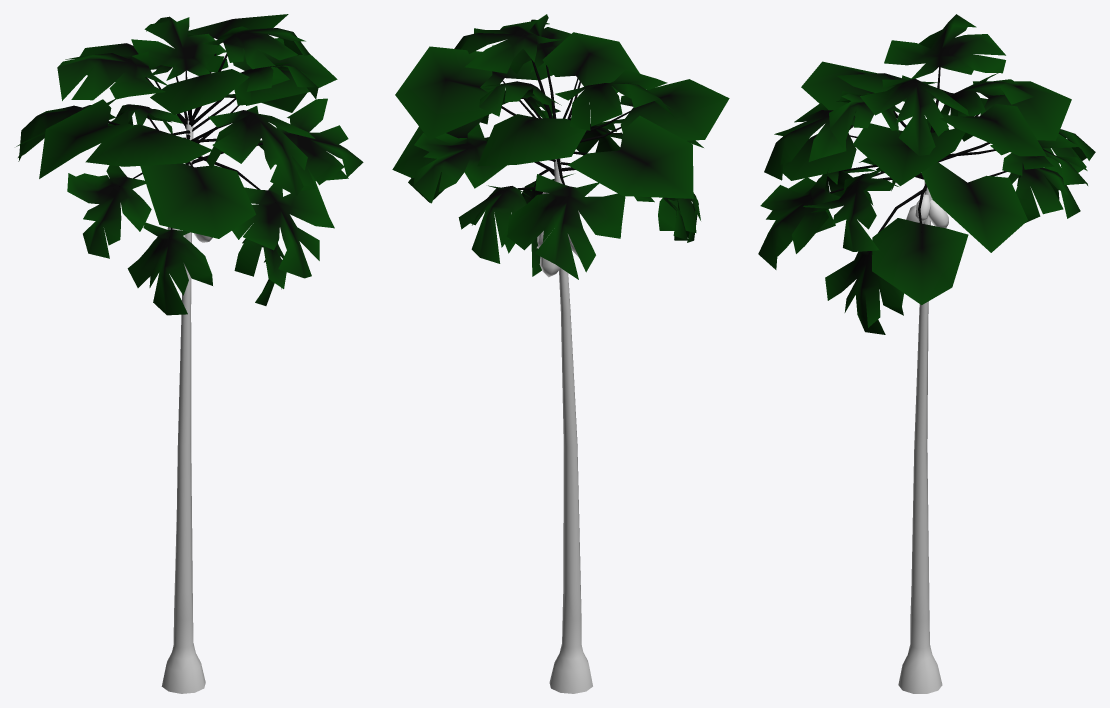
The model's file is PapayaTree001_HDRP_afsTREE_xlprl05_xef80_xlod00.fbx.
3 renders of one model, left to right at view 1: azimuth 30°, elevation 25°; view 2: azimuth 150°, elevation 25°; view 3: azimuth 270°, elevation 25°, orthographic.
Visible parts, largest first — view 1: trunk_xw05_xt05_xlp00, stem.005_xt15_xlp05_xp05, stem.012_xt15_xlp05_xp03, stem.022_xt15_xlp05_xp05, stem.010_xt15_xlp05_xp07, stem.013_xt10_xlp03_xp06, stem.029_xt15_xlp05, stem.024_xt15_xlp05_xp07, stem.032_xt15_xlp05_xp08, stem.023_xt15_xlp05, stem.011_xt15_xlp05_xp09, stem.033_xt15_xlp05_xp04 (+9 smaller); view 2: trunk_xw05_xt05_xlp00, stem.002_xt15_xlp05_xp01, stem.011_xt15_xlp05_xp09, stem.027_xt15_xlp05_xp10, stem.026_xt15_xlp05_xp02, stem.023_xt15_xlp05, stem.015_xt15_xlp05, stem.031_xt15_xlp05_xp01, stem.029_xt15_xlp05, stem.033_xt15_xlp05_xp04, stem.004_xt15_xlp05, stem.030_xt15_xlp05 (+7 smaller); view 3: trunk_xw05_xt05_xlp00, stem.003_xt15_xlp05_xp10, stem.021_xt15_xlp05_xp08, stem.029_xt15_xlp05, stem.012_xt15_xlp05_xp03, stem.033_xt15_xlp05_xp04, stem.014_xt10_xlp05.001, stem.025_xt15_xlp05_xp10, stem.027_xt15_xlp05_xp10, stem.024_xt15_xlp05_xp07, stem.022_xt15_xlp05_xp05, stem.026_xt15_xlp05_xp02 (+9 smaller).
Part boxes in pixels (left/top/right/bottom): trunk_xw05_xt05_xlp00: left=161, top=120, right=205, bottom=693; stem.005_xt15_xlp05_xp05: left=140, top=134, right=255, bottom=238; stem.012_xt15_xlp05_xp03: left=197, top=156, right=334, bottom=278; stem.022_xt15_xlp05_xp05: left=191, top=106, right=314, bottom=195; stem.010_xt15_xlp05_xp07: left=67, top=165, right=151, bottom=258; stem.013_xt10_xlp03_xp06: left=127, top=162, right=212, bottom=315; stem.029_xt15_xlp05: left=57, top=51, right=187, bottom=124; stem.024_xt15_xlp05_xp07: left=194, top=98, right=363, bottom=190; stem.032_xt15_xlp05_xp08: left=131, top=16, right=226, bottom=120; stem.023_xt15_xlp05: left=85, top=124, right=211, bottom=166; stem.011_xt15_xlp05_xp09: left=39, top=99, right=185, bottom=178; stem.033_xt15_xlp05_xp04: left=191, top=26, right=309, bottom=121; trunk_xw05_xt05_xlp00: left=549, top=158, right=592, bottom=693; stem.002_xt15_xlp05_xp01: left=506, top=158, right=625, bottom=279; stem.011_xt15_xlp05_xp09: left=568, top=115, right=693, bottom=198; stem.027_xt15_xlp05_xp10: left=395, top=46, right=515, bottom=139; stem.026_xt15_xlp05_xp02: left=477, top=114, right=586, bottom=166; stem.023_xt15_xlp05: left=585, top=79, right=729, bottom=140; stem.015_xt15_xlp05: left=413, top=123, right=506, bottom=203; stem.031_xt15_xlp05_xp01: left=542, top=32, right=639, bottom=118; stem.029_xt15_xlp05: left=555, top=69, right=674, bottom=130; stem.033_xt15_xlp05_xp04: left=454, top=20, right=562, bottom=118; stem.004_xt15_xlp05: left=458, top=185, right=535, bottom=263; stem.030_xt15_xlp05: left=492, top=14, right=570, bottom=118; trunk_xw05_xt05_xlp00: left=898, top=181, right=942, bottom=693; stem.003_xt15_xlp05_xp10: left=872, top=184, right=968, bottom=304; stem.021_xt15_xlp05_xp08: left=921, top=162, right=1027, bottom=252; stem.029_xt15_xlp05: left=884, top=14, right=1005, bottom=132; stem.012_xt15_xlp05_xp03: left=758, top=170, right=922, bottom=269; stem.033_xt15_xlp05_xp04: left=860, top=78, right=968, bottom=155; stem.014_xt10_xlp05.001: left=825, top=189, right=926, bottom=334; stem.025_xt15_xlp05_xp10: left=853, top=123, right=965, bottom=185; stem.027_xt15_xlp05_xp10: left=939, top=104, right=1046, bottom=156; stem.024_xt15_xlp05_xp07: left=803, top=169, right=898, bottom=251; stem.022_xt15_xlp05_xp05: left=764, top=103, right=862, bottom=180; stem.026_xt15_xlp05_xp02: left=973, top=81, right=1071, bottom=140.
Size of what is drawn, in the model's own units: 2.38 by 4.89 by 2.37.
